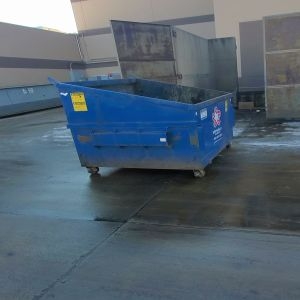Dumpster: (55, 82, 237, 181)
